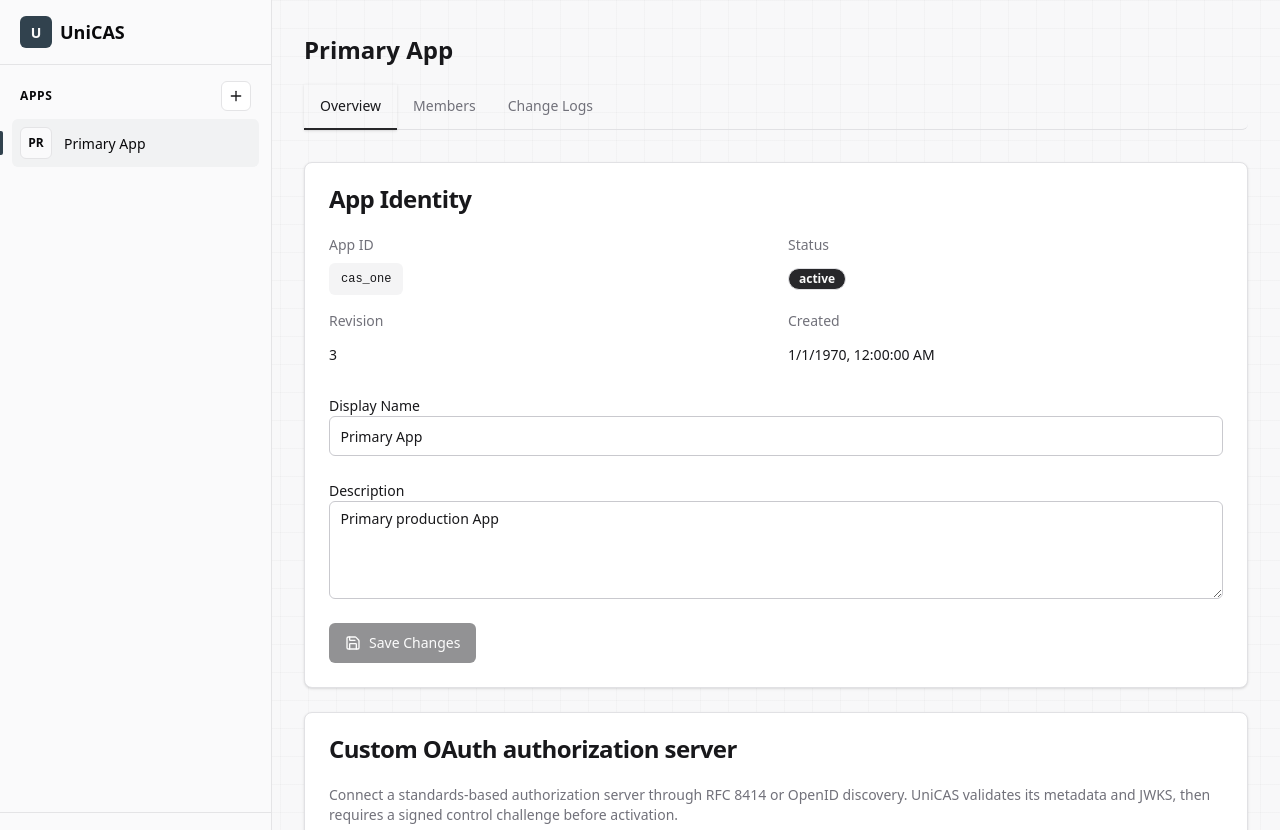
Test: current App shell › reports App ID copy failures without replacing the ID
What coordinates should you click on to do the following:
click the button with aria-label "Copy App ID cas_one"
I would click on:
 (366, 279)
Its box is x1=329 y1=263 x2=403 y2=295.
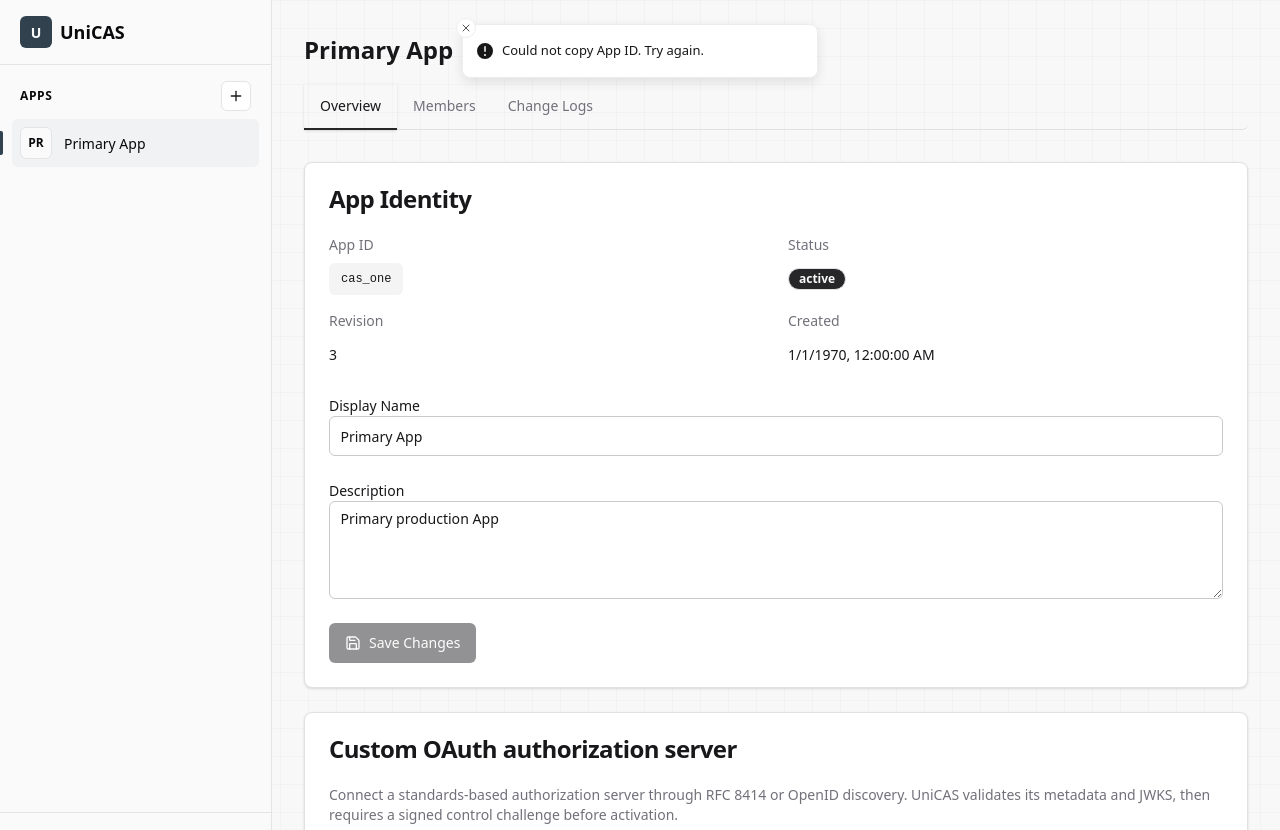
Expected: the text "Could not copy App ID. Try again." is shown, x1=502 y1=41 x2=704 y2=60
